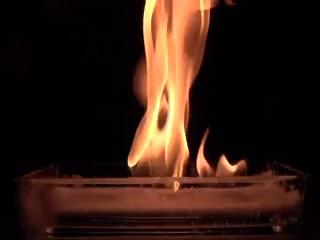Fire: (150, 101, 197, 185)
